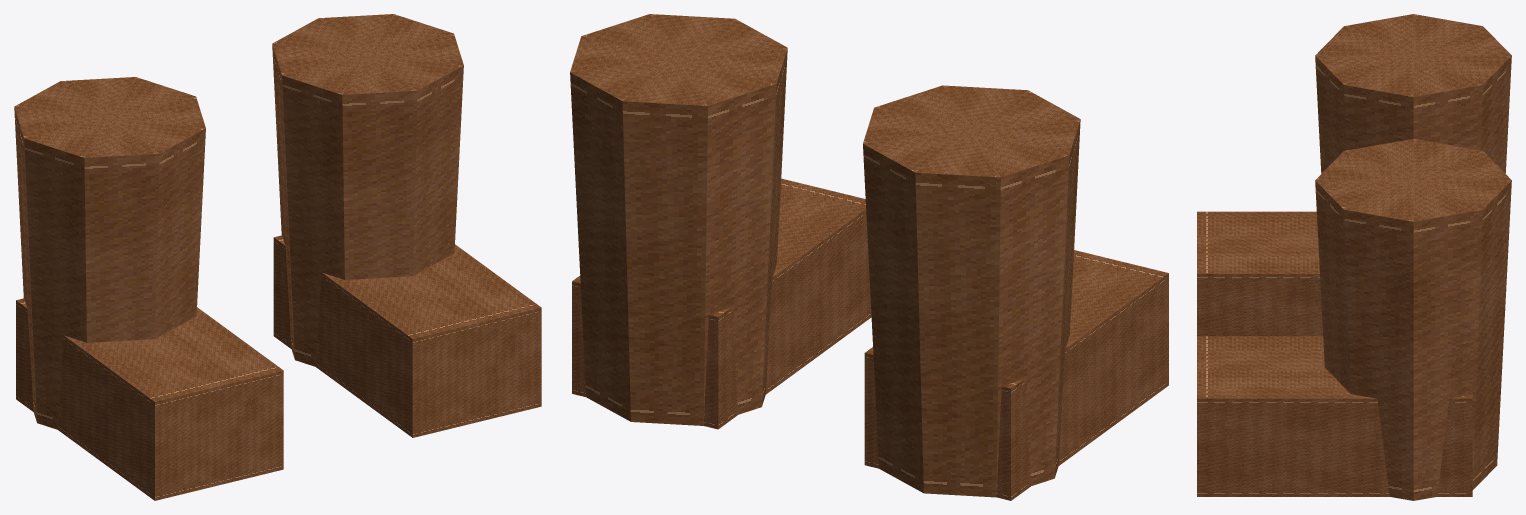
File: botas_de_couro.glb
The picture shows the model from 3 angles, left to right: view 1: azimuth 30°, elevation 25°; view 2: azimuth 150°, elevation 25°; view 3: azimuth 270°, elevation 25°; orthographic projection. The views are drawn at different scales.
Visible parts, largest first — view 1: botas_de_couro; view 2: botas_de_couro; view 3: botas_de_couro.
Boxes of the visible parts, box(x1,y1,x2,y2) form: botas_de_couro: box(14, 14, 541, 500); botas_de_couro: box(570, 14, 1168, 500); botas_de_couro: box(1197, 14, 1511, 500).
Size of the model in its own units: 0.5 by 0.32 by 0.32.
Materials: 1 (1 with a texture image).
